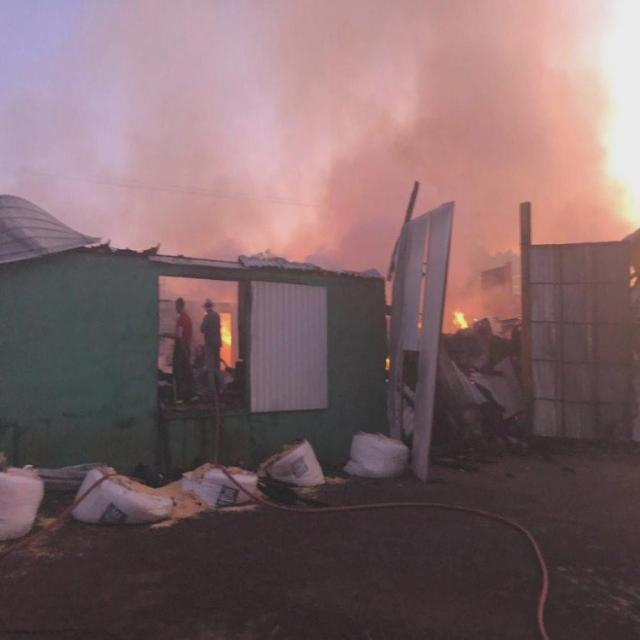Fire: (219, 321, 234, 344), (456, 308, 470, 328)
